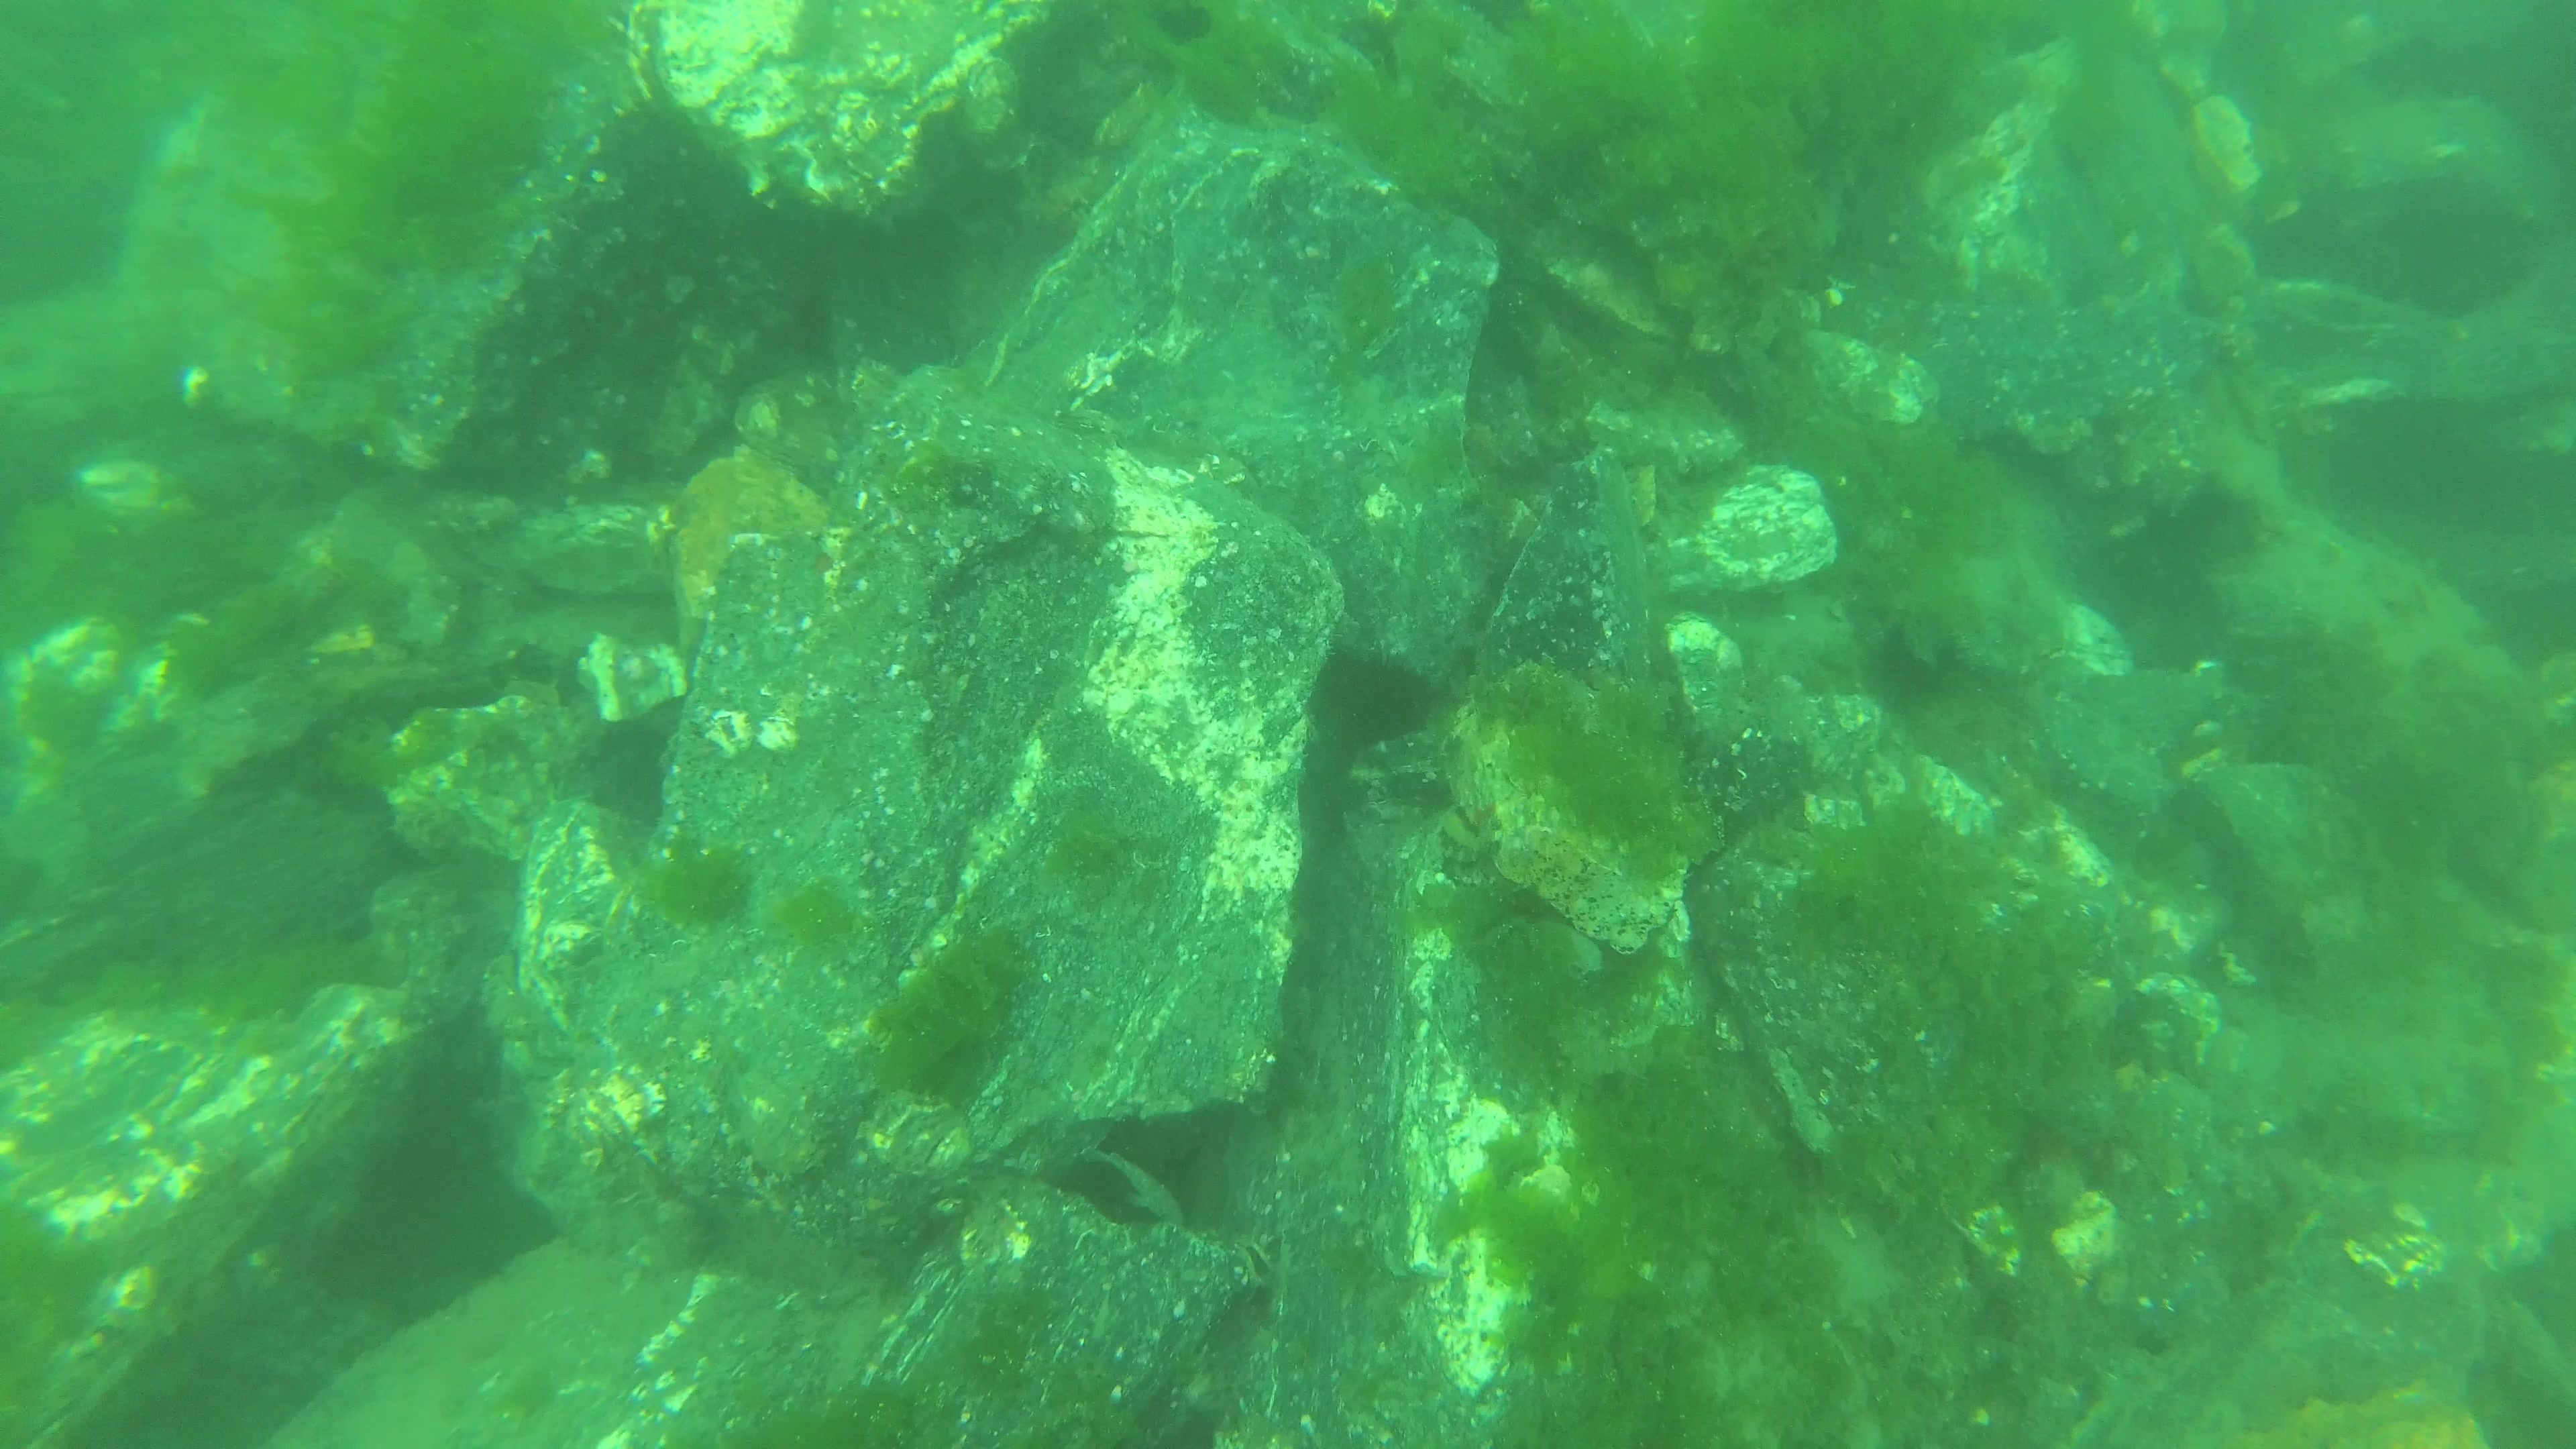echinus: (1306, 646, 1454, 757)
